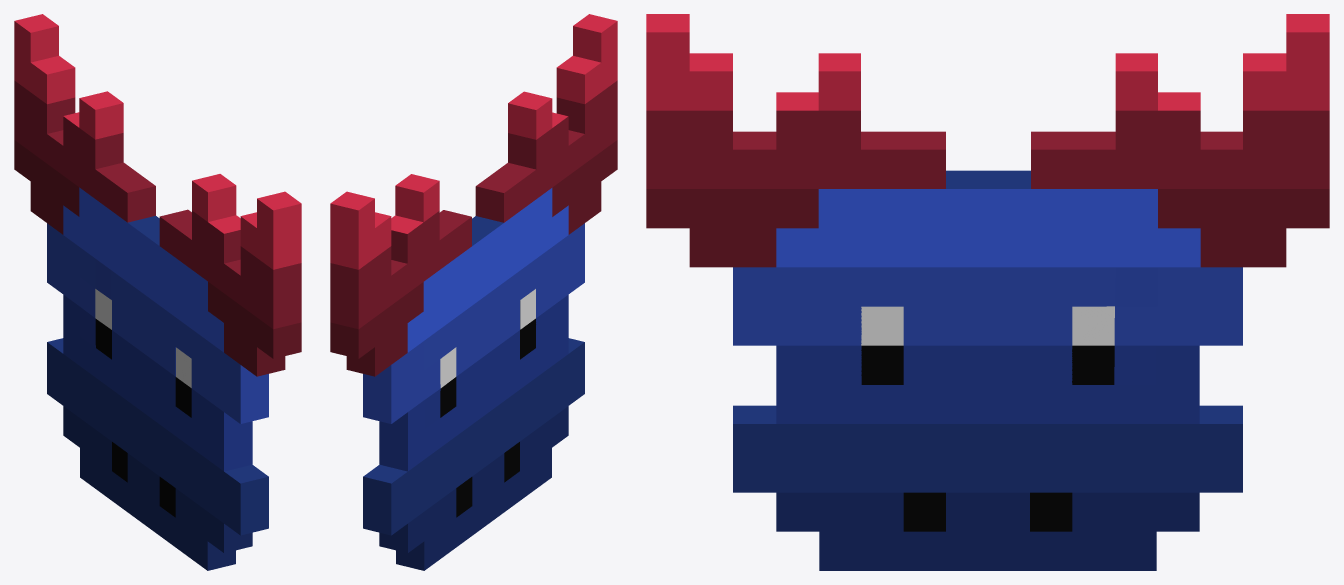
The model's file is chatbot.glb.
3 renders of one model, left to right at view 1: azimuth 30°, elevation 25°; view 2: azimuth 150°, elevation 25°; view 3: azimuth 270°, elevation 25°, orthographic. The views are drawn at different scales.
Parts seen in each view (by area): view 1: Cube; view 2: Cube; view 3: Cube.
Part boxes in pixels (x1=…): Cube: x1=14, y1=14, x2=301, y2=570; Cube: x1=330, y1=14, x2=617, y2=570; Cube: x1=646, y1=14, x2=1329, y2=570.
Bounding box in the file's own units: 1.01 × 13.75 × 15.8.
